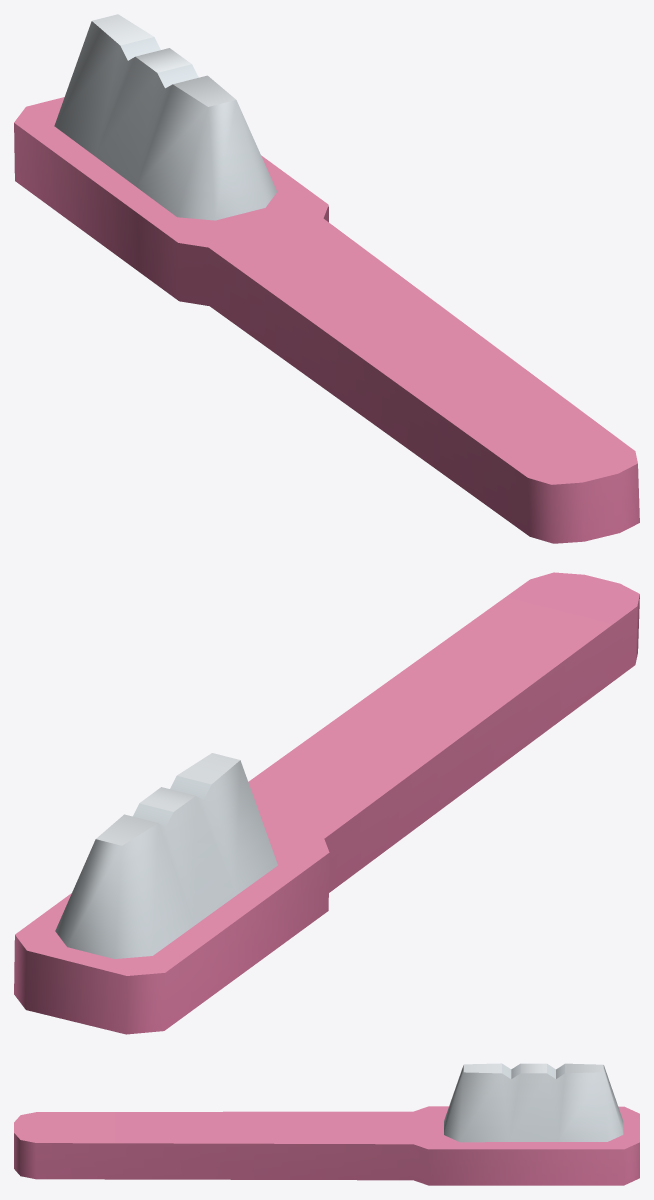
Rendered from toothbrush_pink.fbx.
The picture shows the model from 3 angles, top to bottom: view 1: azimuth 30°, elevation 25°; view 2: azimuth 150°, elevation 25°; view 3: azimuth 270°, elevation 25°; orthographic projection. The views are drawn at different scales.
Visible parts, largest first — view 1: toothbrush_pink; view 2: toothbrush_pink; view 3: toothbrush_pink.
Boxes of the visible parts, x1=… form: toothbrush_pink: x1=14, y1=14, x2=639, y2=543; toothbrush_pink: x1=14, y1=572, x2=639, y2=1034; toothbrush_pink: x1=14, y1=1063, x2=639, y2=1185.
Size of the model in its own units: 0.1 by 0.1 by 0.6.
